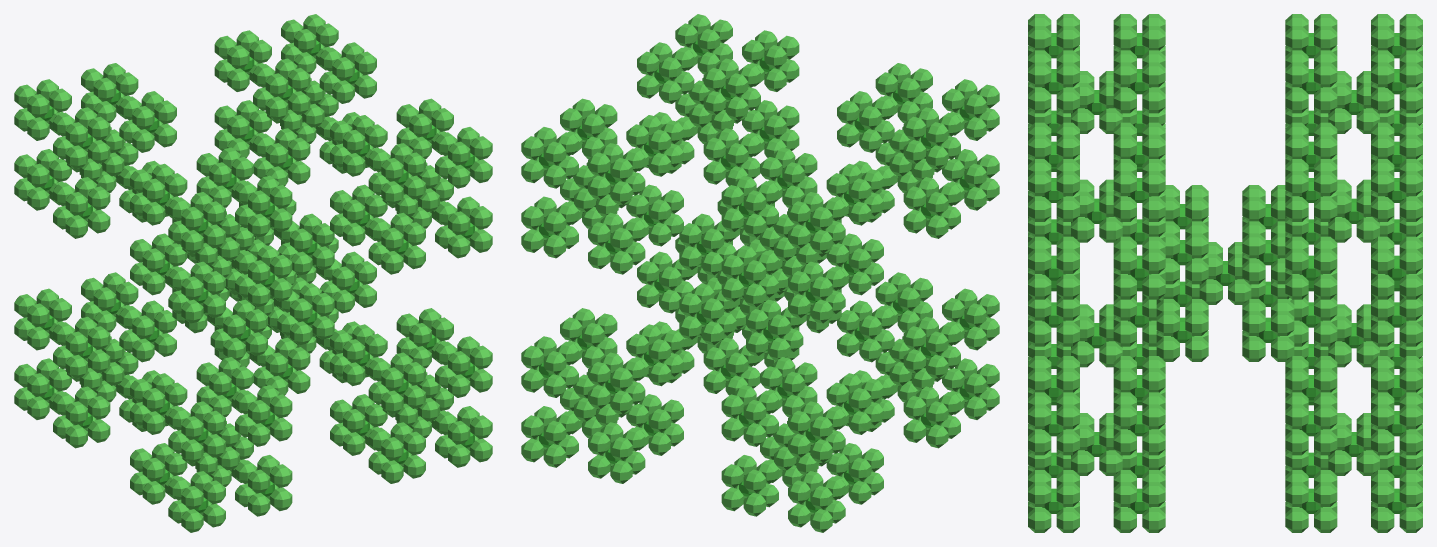
The model's file is fractalrhombicuboctahedron3.glb.
3 views of the same model, side by side, from view 1: azimuth 30°, elevation 25°; view 2: azimuth 150°, elevation 25°; view 3: azimuth 270°, elevation 25° (orthographic). The views are drawn at different scales.
Size of the model in its own units: 6.33 by 6.33 by 6.33.
